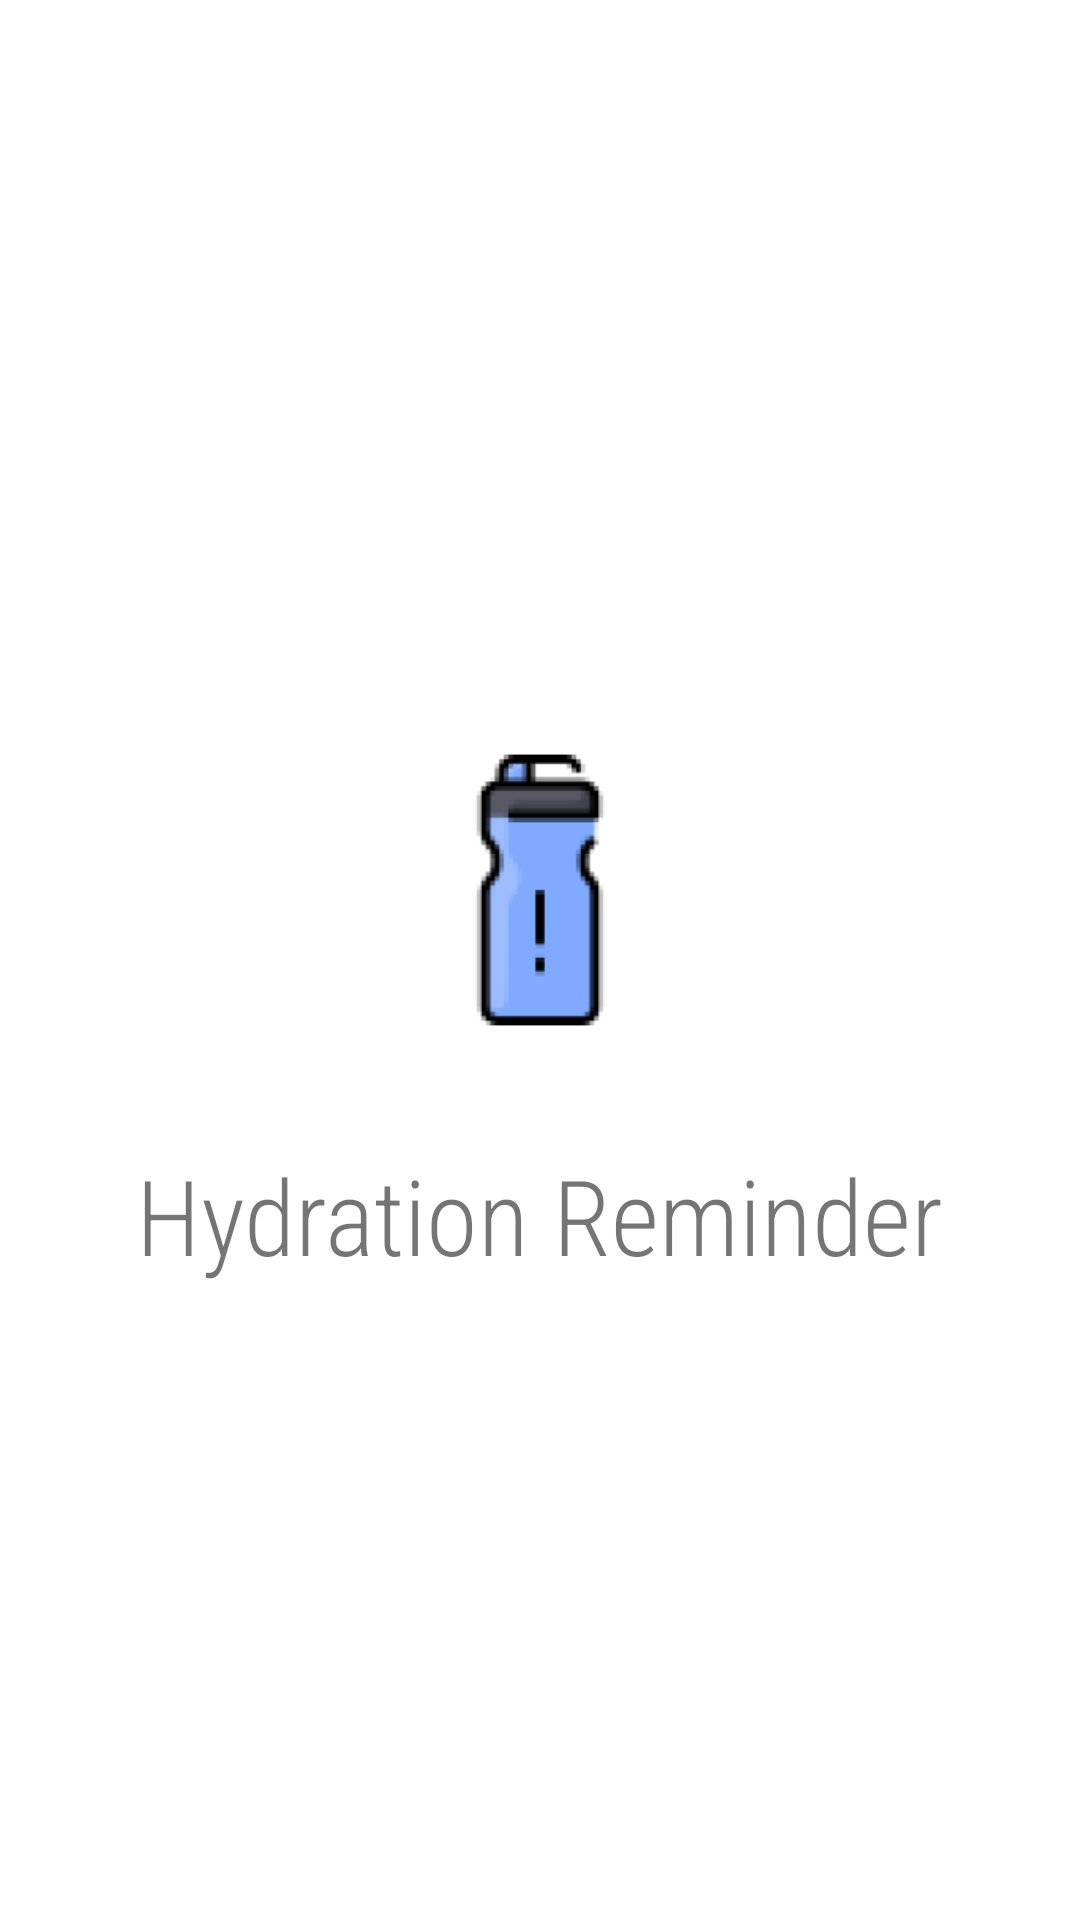

Icon click points for this 1080px x 1920px phone screenshot, format (x,y):
bottle: (540,890)
